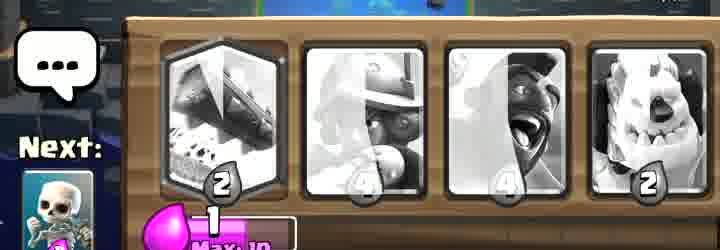ice-golem: (596, 51, 704, 198)
skeleton: (24, 171, 93, 250)
